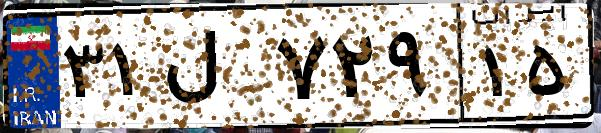1: (475, 38, 525, 113), (110, 28, 158, 98)
2: (330, 28, 385, 110)
3: (57, 26, 110, 100)
5: (525, 38, 570, 115)
7: (270, 28, 330, 110)
9: (385, 28, 445, 110)
ل: (158, 20, 270, 120)
